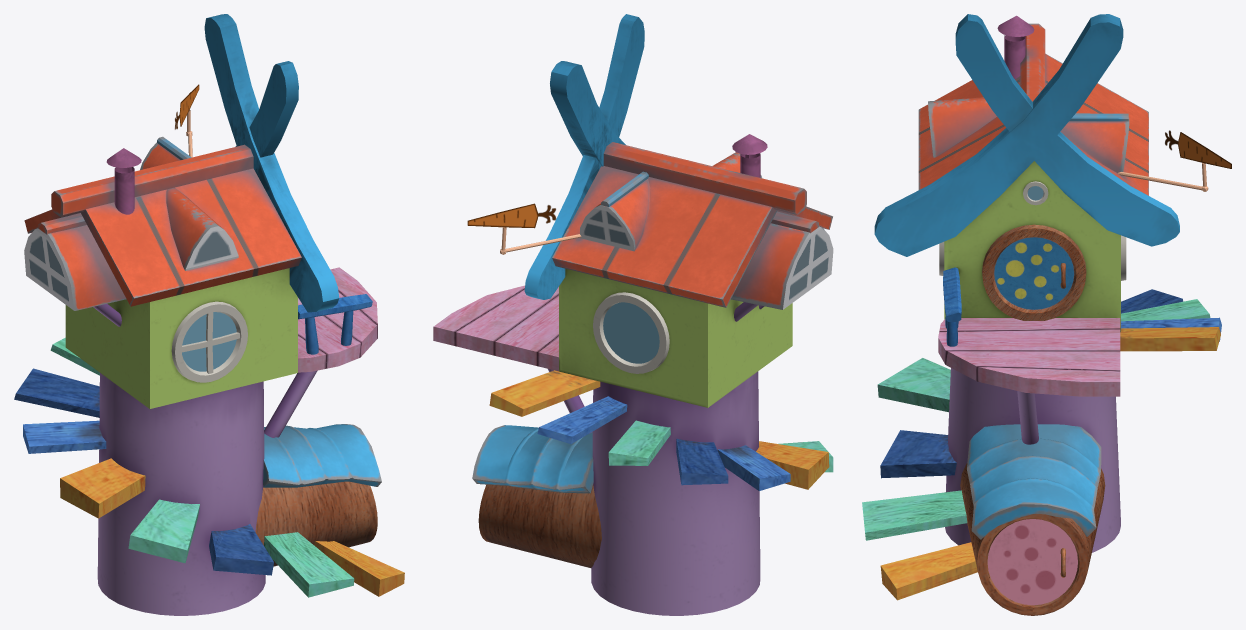
Rendered from krosh_house.glb.
The picture shows the model from 3 angles, left to right: view 1: azimuth 30°, elevation 25°; view 2: azimuth 150°, elevation 25°; view 3: azimuth 270°, elevation 25°; orthographic projection. The views are drawn at different scales.
Visible parts, largest first — view 1: Cylinder.013, Cube.028, Cube.035, Cube.033, Cylinder.014, Cylinder.015, Cube.051, Cube.036, Cube.032, Cube.029, Cube.039, object 20 (+12 smaller); view 2: Cylinder.013, Cube.035, Cube.028, Cylinder.014, Cube.029, Cylinder.015, Cube.034, Cube.051, Cube.036, Cube.031, Cube.033, Cube.037 (+8 smaller); view 3: Cube.033, Cube.029, Cylinder.015, Cube.028, Cube.034, Cylinder.014, Cylinder.013, Cylinder.019, Cube.035, object 17, object 16, object 18 (+14 smaller).
Part boxes in pixels (left/top/right/bottom): Cylinder.013: left=97, top=373, right=265, bottom=615; Cube.028: left=65, top=268, right=297, bottom=408; Cube.035: left=24, top=168, right=301, bottom=306; Cube.033: left=204, top=14, right=339, bottom=312; Cylinder.014: left=255, top=481, right=377, bottom=566; Cylinder.015: left=263, top=424, right=381, bottom=487; Cube.051: left=24, top=225, right=126, bottom=310; Cube.036: left=51, top=144, right=253, bottom=217; Cube.032: left=171, top=301, right=247, bottom=382; Cube.029: left=298, top=267, right=377, bottom=372; Cube.039: left=166, top=187, right=238, bottom=270; object 20: left=60, top=458, right=145, bottom=518; Cylinder.013: left=591, top=371, right=760, bottom=615; Cube.035: left=552, top=166, right=832, bottom=307; Cube.028: left=559, top=268, right=792, bottom=407; Cylinder.014: left=478, top=484, right=601, bottom=567; Cube.029: left=433, top=285, right=558, bottom=371; Cylinder.015: left=472, top=425, right=593, bottom=493; Cube.034: left=524, top=14, right=644, bottom=299; Cube.051: left=731, top=223, right=833, bottom=309; Cube.036: left=603, top=142, right=806, bottom=214; Cube.031: left=593, top=292, right=669, bottom=373; Cube.033: left=550, top=61, right=625, bottom=166; Cube.037: left=580, top=179, right=650, bottom=251; Cube.033: left=874, top=14, right=1123, bottom=256; Cube.029: left=938, top=318, right=1120, bottom=396; Cylinder.015: left=967, top=424, right=1101, bottom=539; Cube.028: left=944, top=161, right=1120, bottom=332; Cube.034: left=955, top=14, right=1179, bottom=246; Cylinder.014: left=960, top=463, right=1105, bottom=615; Cylinder.013: left=945, top=368, right=1120, bottom=552; Cylinder.019: left=982, top=224, right=1086, bottom=320; Cube.035: left=918, top=53, right=1148, bottom=195; object 17: left=862, top=490, right=967, bottom=540; object 16: left=880, top=542, right=977, bottom=600; object 18: left=880, top=430, right=956, bottom=478.
Bounding box in the file's own units: 4.63 × 6.83 × 4.19.
Materials: 16 (16 with a texture image).
